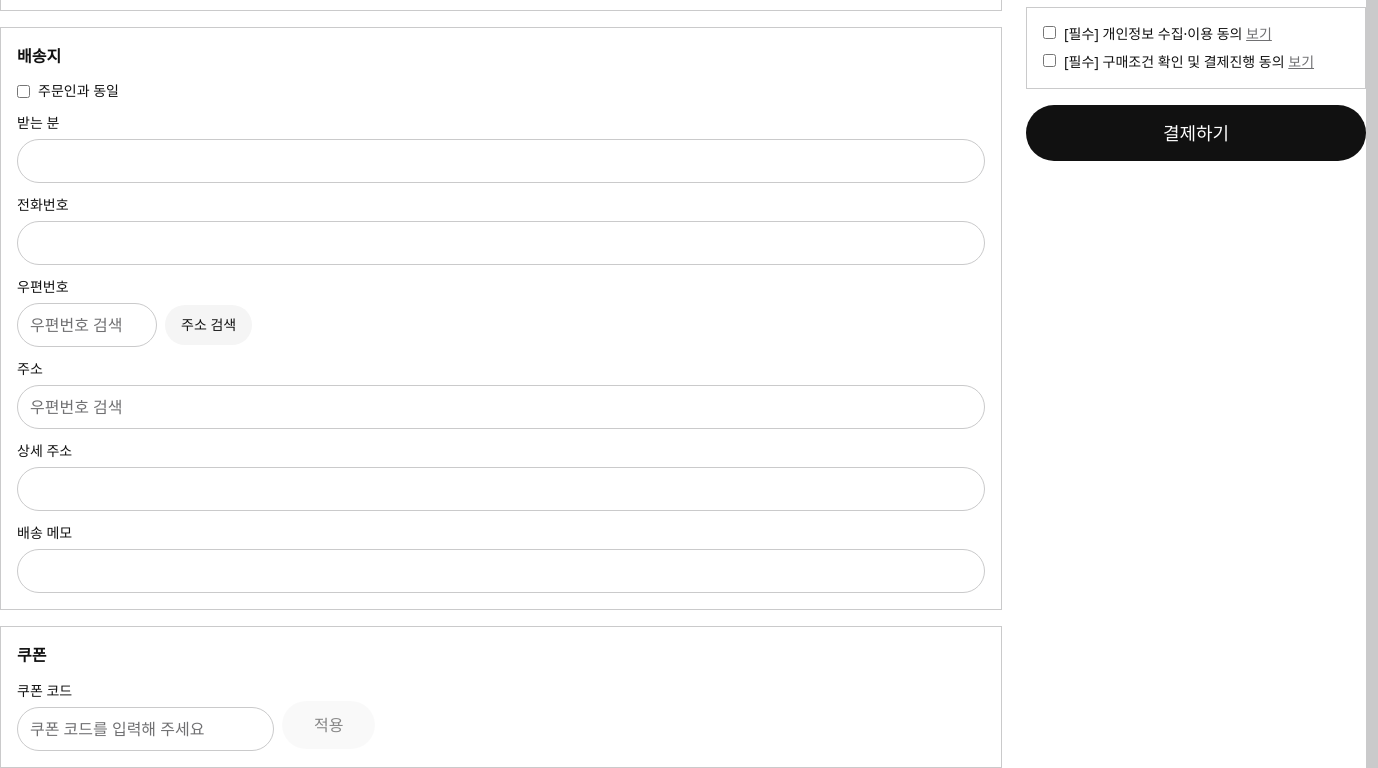
<CheckoutClient> 쿠폰 (FS-X-04, ADR-026) › errorCode COUPON_INVALID → 한국어 안내
(page scrolled)
Type "BADCODE" into the field with test id "coupon-input" at (146, 729), box [17, 707, 274, 751]
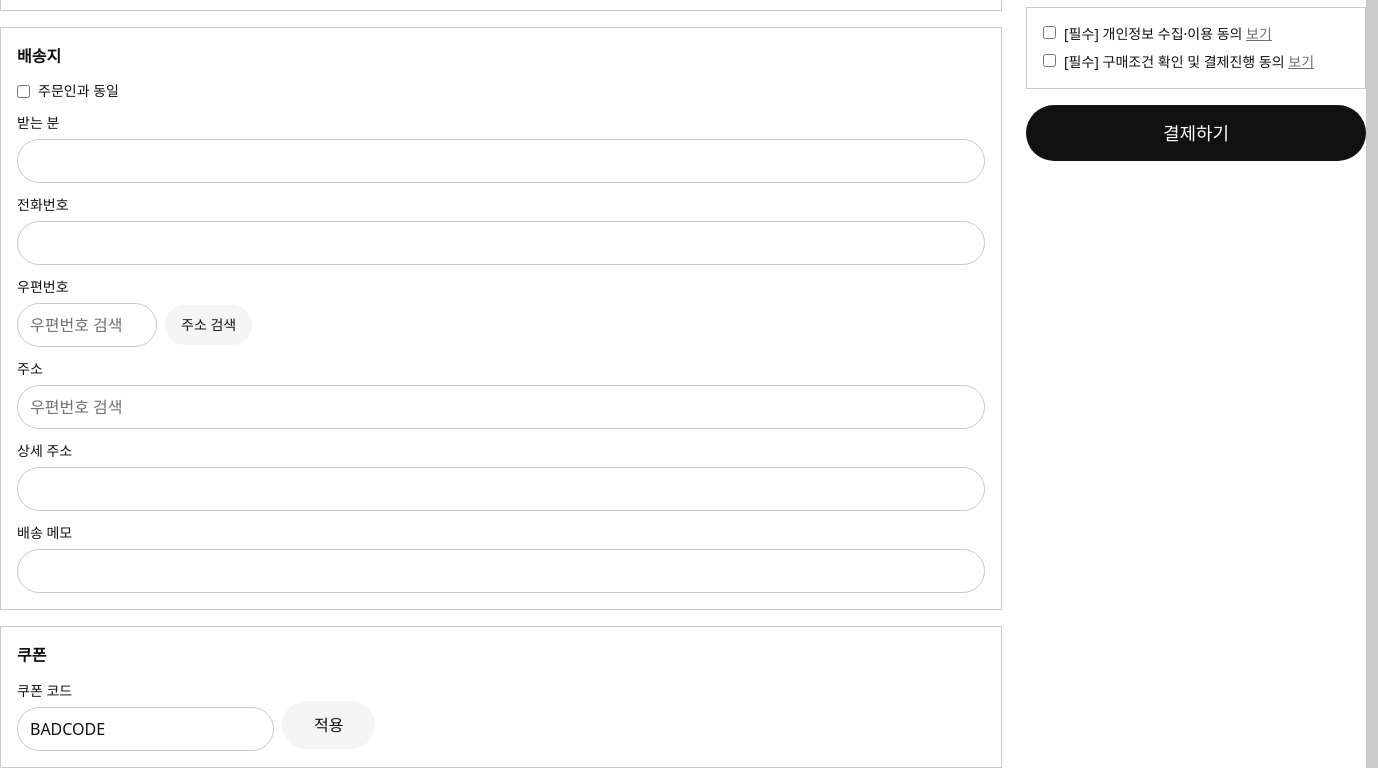
Click the button with test id "coupon-apply" at (329, 725), box [282, 701, 376, 749]
(page scrolled)
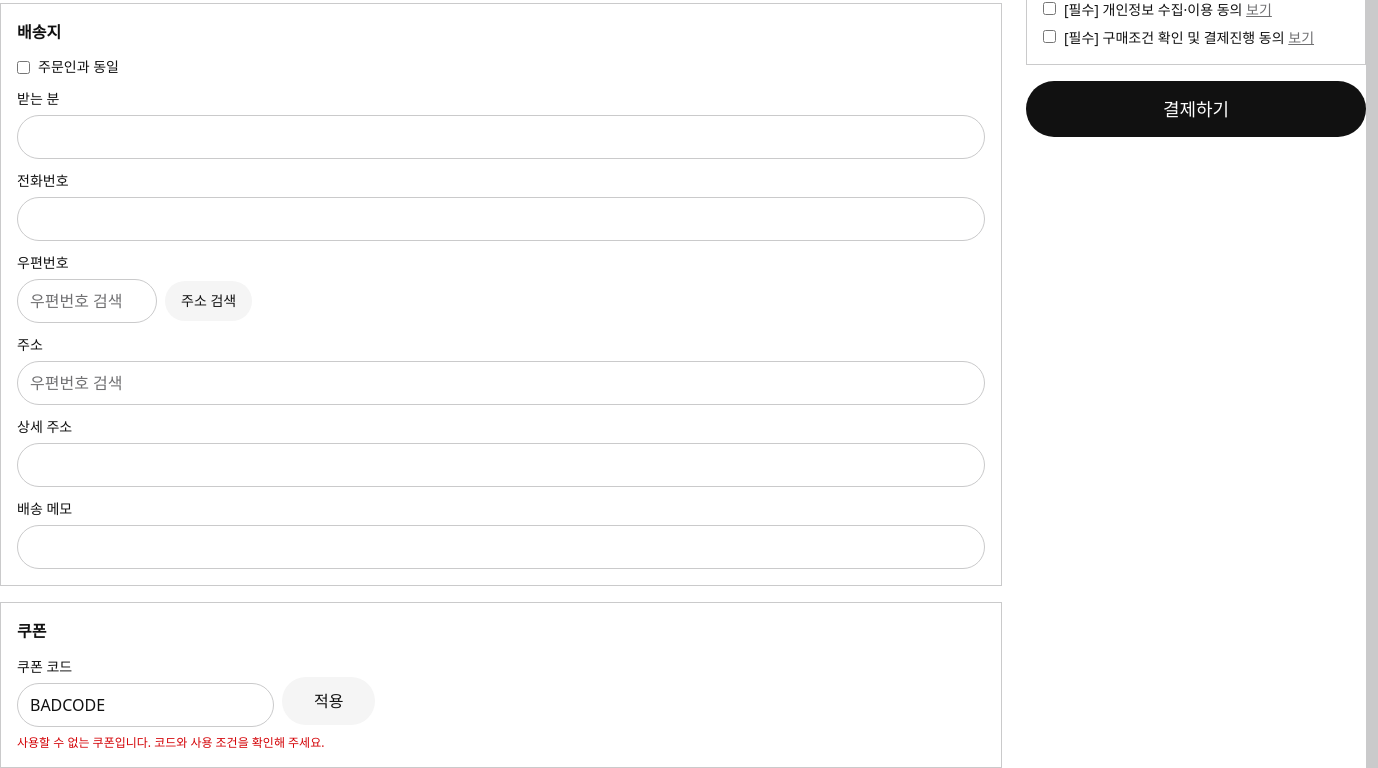
Expected: the message with test id "coupon-error" reads "사용할 수 없는 쿠폰입니다. 코드와 사용 조건을 확인해 주세요.", [17, 734, 324, 751]
